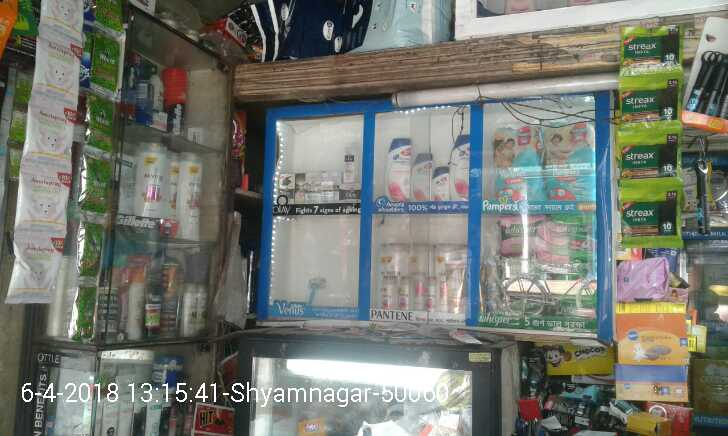gillete: (168, 66, 186, 133)
venus: (302, 275, 331, 301)
